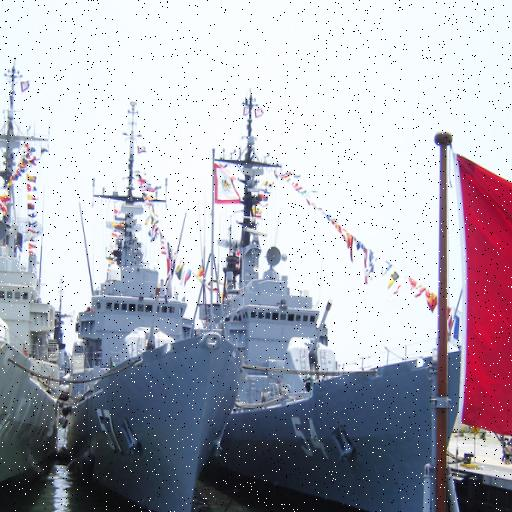Fragata: (199, 70, 480, 512), (42, 48, 243, 512), (1, 1, 60, 512)
